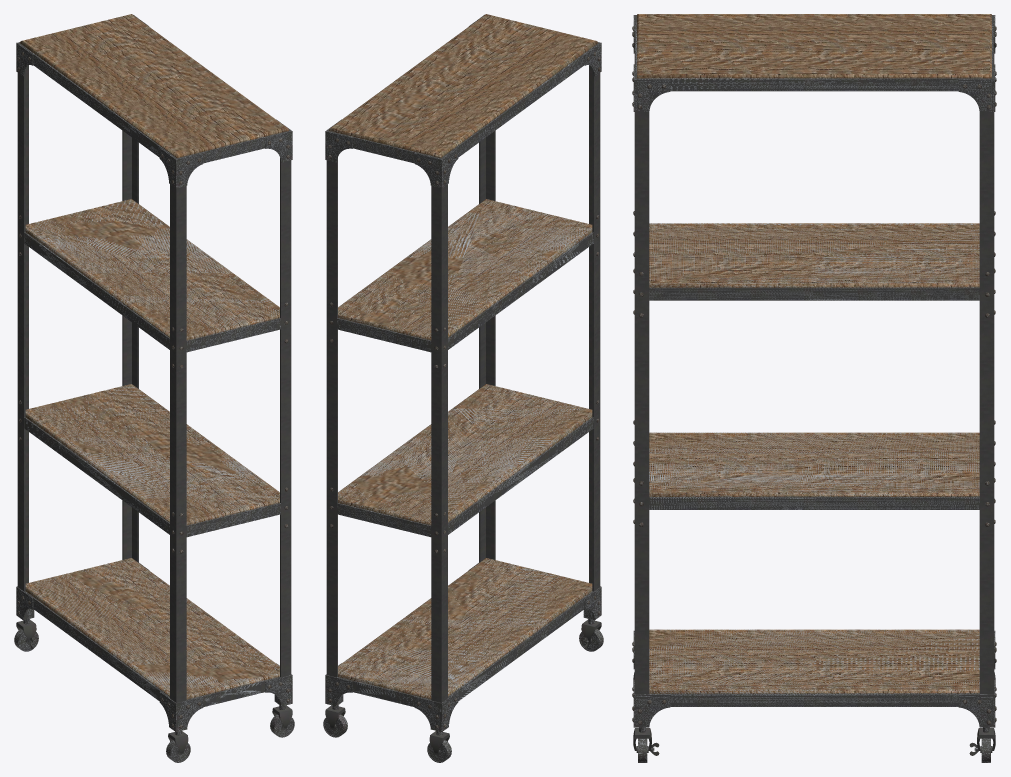
The model's file is mobile.dae.
3 renders of one model, left to right at view 1: azimuth 30°, elevation 25°; view 2: azimuth 150°, elevation 25°; view 3: azimuth 270°, elevation 25°, orthographic. The views are drawn at different scales.
Visible parts, largest first — view 1: Component_29 (×4), Component_24 (×4), Component_28 (×8), Component_26 (×4); view 2: Component_29 (×4), Component_24 (×4), Component_28 (×8), Component_26 (×4); view 3: Component_29 (×4), Component_24 (×2), Component_28 (×4), Component_26 (×4).
Part boxes in pixels (x1,y1,x2,y2): Component_29 (×4): (20,14,288,699); Component_24 (×4): (17,42,291,705); Component_28 (×8): (24,47,280,706); Component_26 (×4): (159,119,292,731); Component_29 (×4): (329,14,597,699); Component_24 (×4): (326,42,600,705); Component_28 (×8): (337,47,593,706); Component_26 (×4): (325,119,458,731); Component_29 (×4): (637,14,991,693); Component_24 (×2): (634,73,994,694); Component_28 (×4): (649,78,979,706); Component_26 (×4): (633,64,995,727).
Size of the model in its own units: 15.33 by 34.29 by 71.6.
6 materials, 5 textured.
